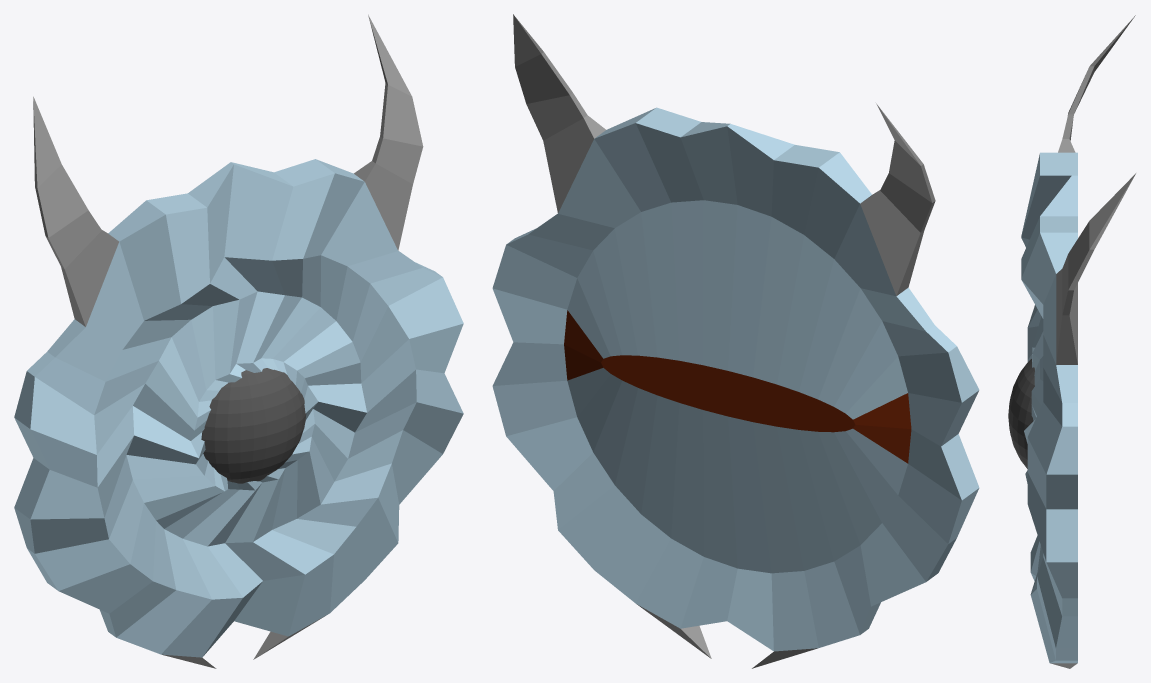
Rendered from IronShield.fbx.
3 views of the same model, side by side, from view 1: azimuth 30°, elevation 25°; view 2: azimuth 150°, elevation 25°; view 3: azimuth 270°, elevation 25° (orthographic). The views are drawn at different scales.
Visible parts, largest first — view 1: Circle; view 2: Circle; view 3: Circle.
Boxes of the visible parts, x1=… form: Circle: x1=14, y1=14, x2=463, y2=668; Circle: x1=492, y1=14, x2=979, y2=668; Circle: x1=1008, y1=15, x2=1135, y2=668.
Size of the model in its own units: 196 by 253 by 51.89.
